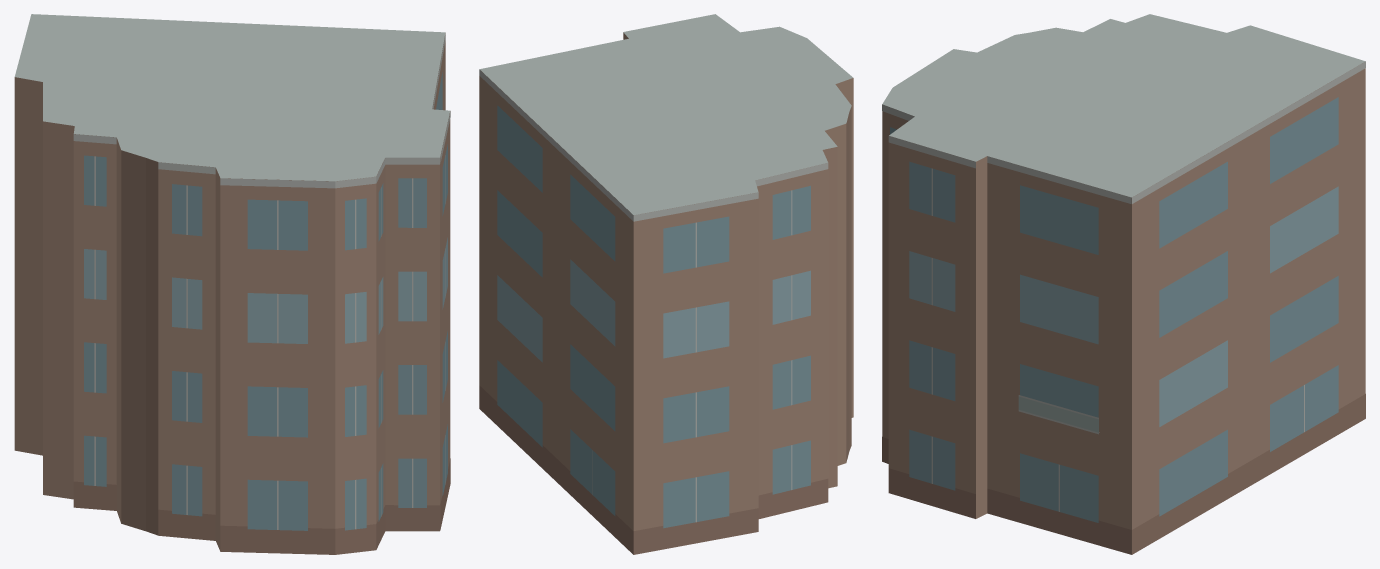
File: survey-upis-32537069.glb
3 views of the same model, side by side, from view 1: azimuth 30°, elevation 25°; view 2: azimuth 150°, elevation 25°; view 3: azimuth 270°, elevation 25° (orthographic). The views are drawn at different scales.
Visible parts, largest first — view 1: survey-upis-32537069.tmp; view 2: survey-upis-32537069.tmp; view 3: survey-upis-32537069.tmp.
Boxes of the visible parts, left/top/right/bottom form: survey-upis-32537069.tmp: left=14, top=14, right=450, bottom=554; survey-upis-32537069.tmp: left=479, top=14, right=853, bottom=554; survey-upis-32537069.tmp: left=882, top=14, right=1365, bottom=554.
Bounding box in the file's own units: 14.22 × 12.9 × 15.83.
